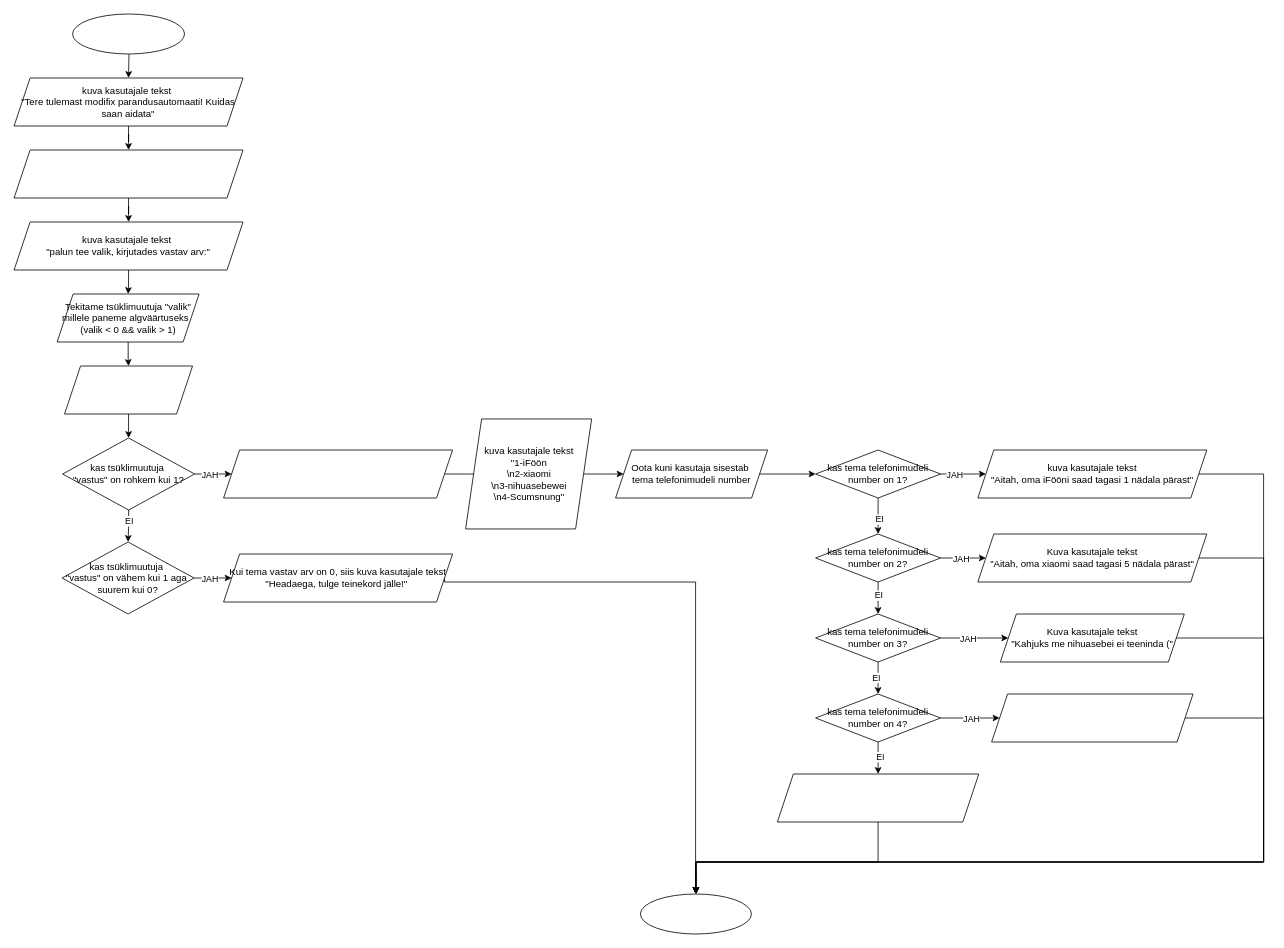
Some shapes in this 1284 by 948 pixel diagram are drawn without their labels. Here are the shapes that lost their labels. From the top down, the centre of each, then its label:
(128,33): Algus
(128,173): kuva kasutajale tekst "0 - headaega\n1 - tahan telefoni parandada"
(128,389): Oota kuni kasutaja sisestab tema vastav arv
(338,473): Kuva kasutajale tekst "Palun sisesta oma telefonimudel, mida parandada soovid:"
(1092,717): Kuva kasutajale tekst "Sinu Scamsung on valmis 2 päeva pärast"
(878,797): Kuva kasutajale tekst "Ei tunne seda telefonitootjat"
(695,913): Lõpp
